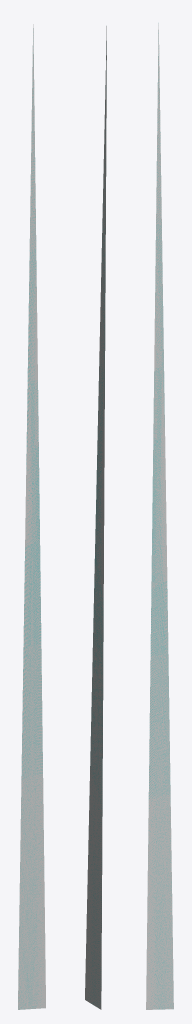
The model's file is 西庸城堡620.dae.
3 views of the same model, side by side, from view 1: azimuth 90°, elevation 25°; view 2: azimuth 210°, elevation 25°; view 3: azimuth 270°, elevation 25° (orthographic).
Parts seen in each view (by area): view 1: SketchUp; view 2: SketchUp; view 3: SketchUp.
Part boxes in pixels (x1=…): SketchUp: x1=18, y1=24, x2=45, y2=1009; SketchUp: x1=85, y1=26, x2=106, y2=1009; SketchUp: x1=146, y1=23, x2=173, y2=1009.
Bounding box in the file's own units: 1.36 × 2.06 × 80.48.
